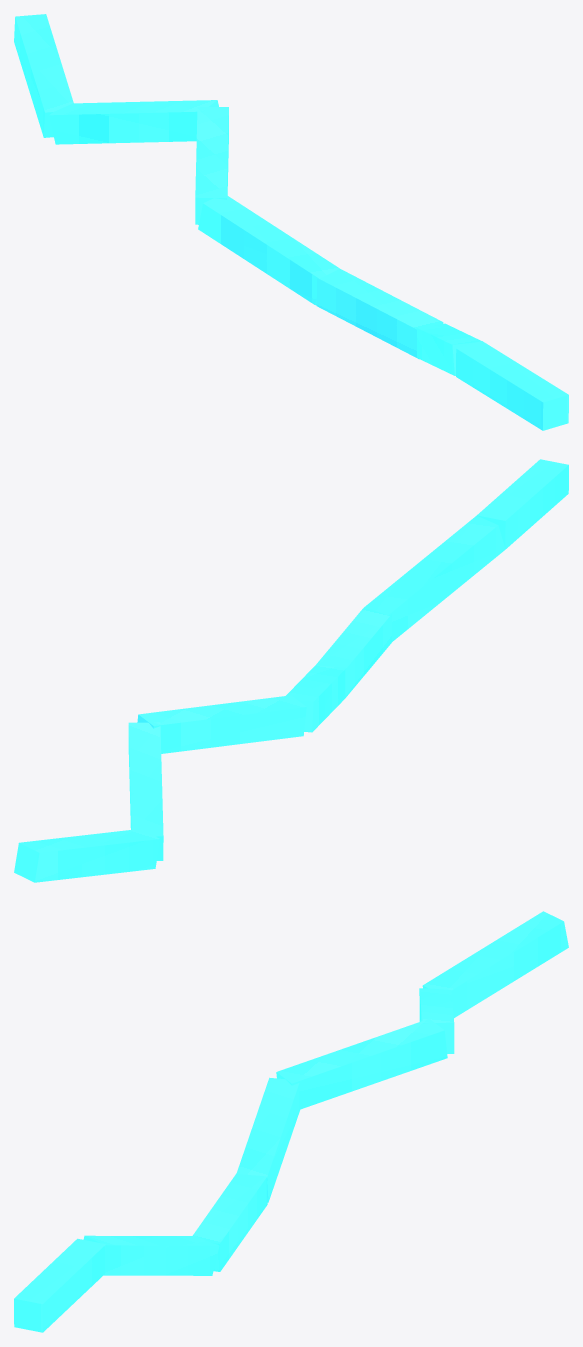
The model's file is fx_arc_w.glb.
The picture shows the model from 3 angles, top to bottom: view 1: azimuth 30°, elevation 25°; view 2: azimuth 150°, elevation 25°; view 3: azimuth 330°, elevation 25°; orthographic projection.
Parts seen in each view (by area): view 1: fx_arc_w; view 2: fx_arc_w; view 3: fx_arc_w.
Part boxes in pixels (left/top/right/bottom): fx_arc_w: left=14, top=14, right=568, bottom=430; fx_arc_w: left=14, top=459, right=568, bottom=882; fx_arc_w: left=14, top=911, right=568, bottom=1332.
Size of the model in its own units: 0.1158 by 0.0861 by 1.01.
Materials: 1 (1 with a texture image).
